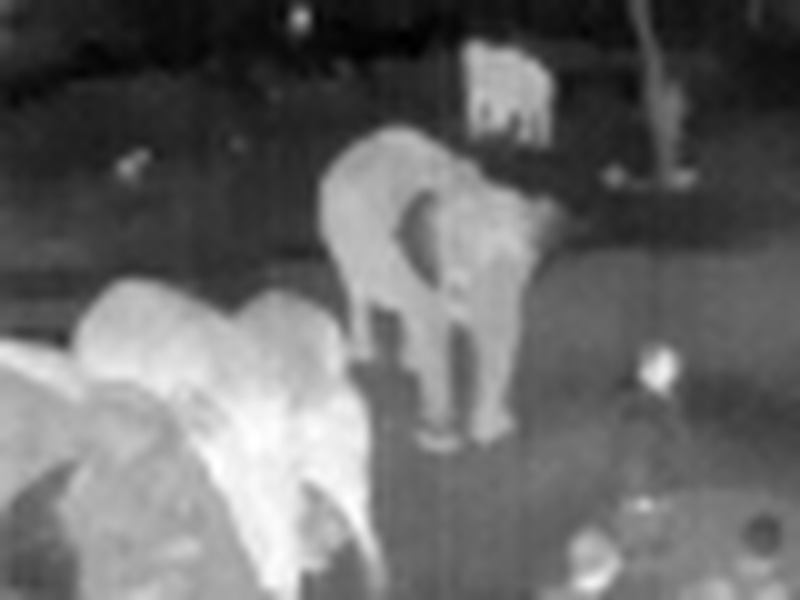elephant: (4, 39, 600, 600)
